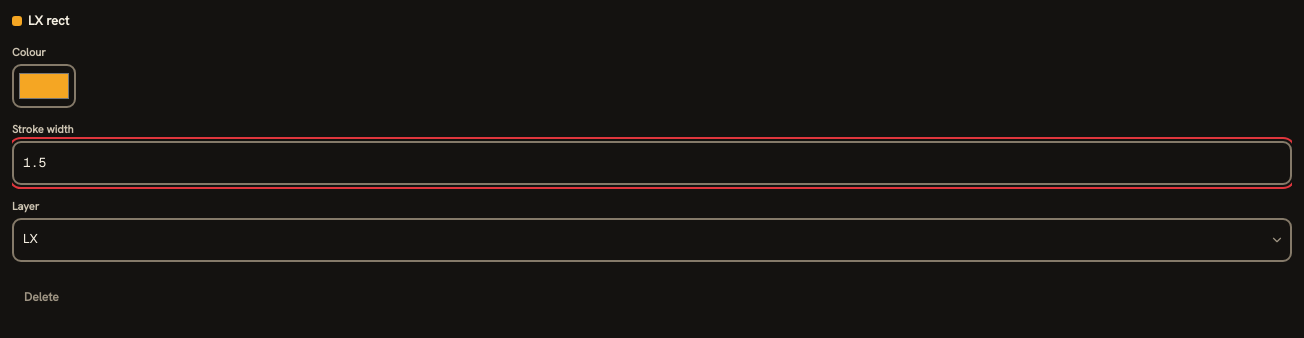
stroke width takes 0.5 to 12 and says so otherwise
Replace the text in the field labelled "Stroke width" with "20" at (652, 163), box [12, 141, 1292, 185]
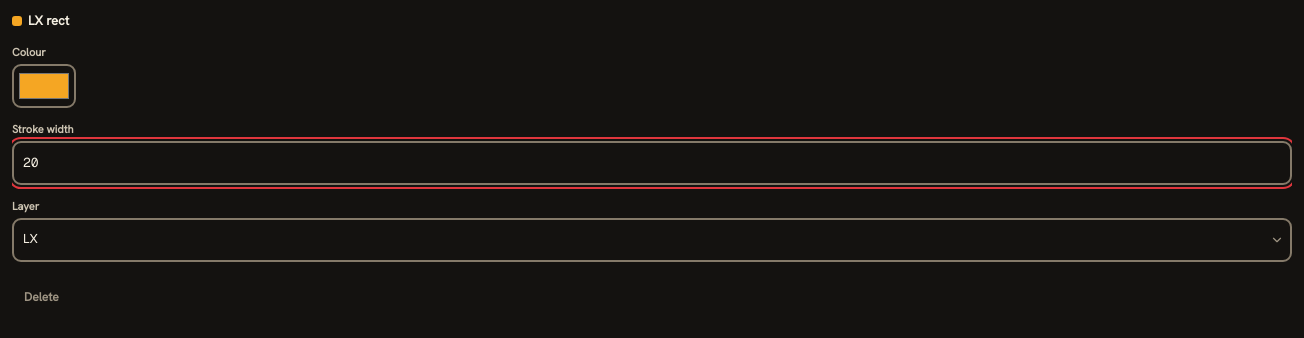
Leave the field labelled "Stroke width", box [12, 141, 1292, 185]
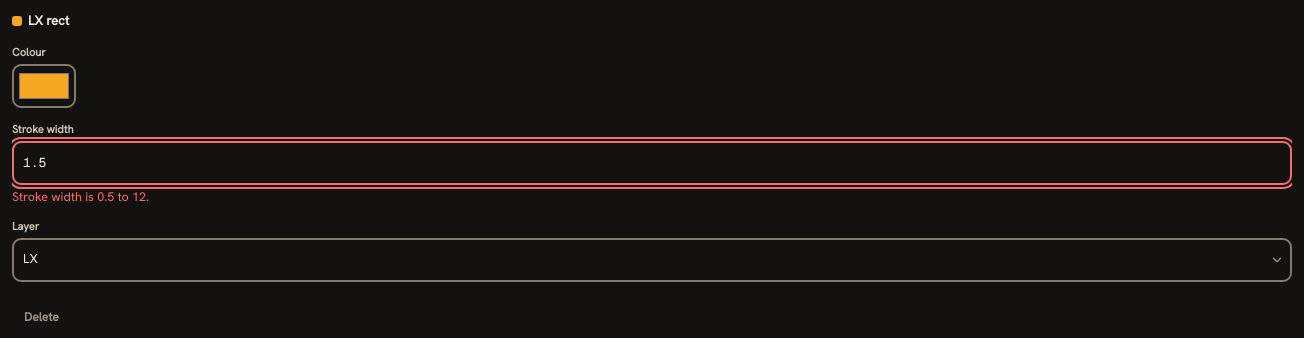
Check: the message reads "Stroke width is 0.5 to 12.", box [12, 188, 149, 205]
Replace the text in the field labelled "Stroke width" with "3" at (652, 163), box [12, 141, 1292, 185]
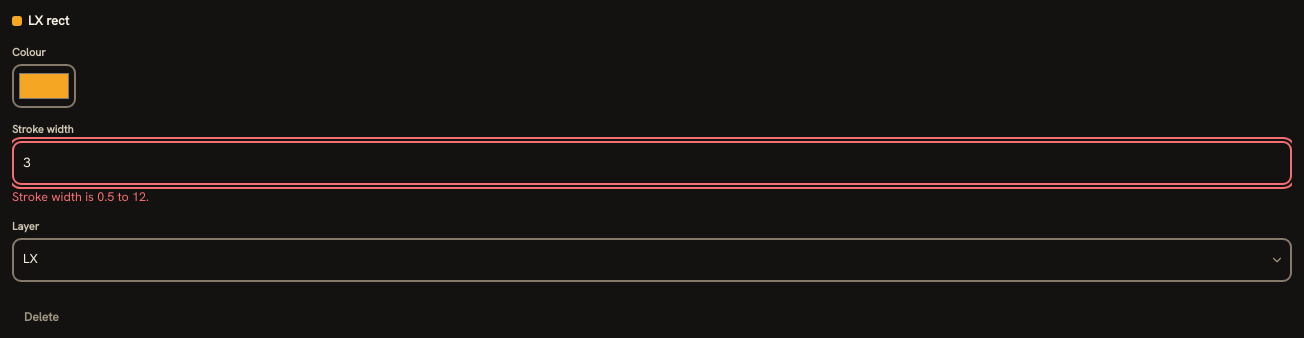
Leave the field labelled "Stroke width", box [12, 141, 1292, 185]
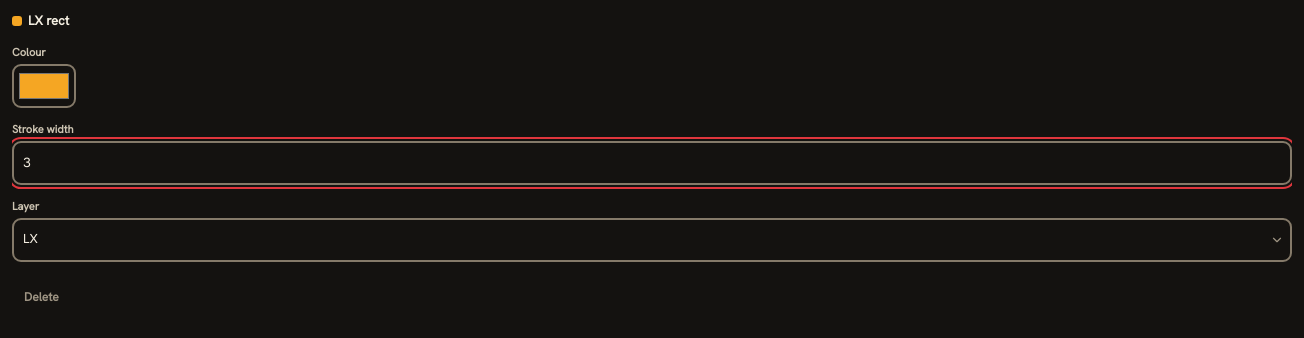
Check: the message "Stroke width is 0.5 to 12." is gone
